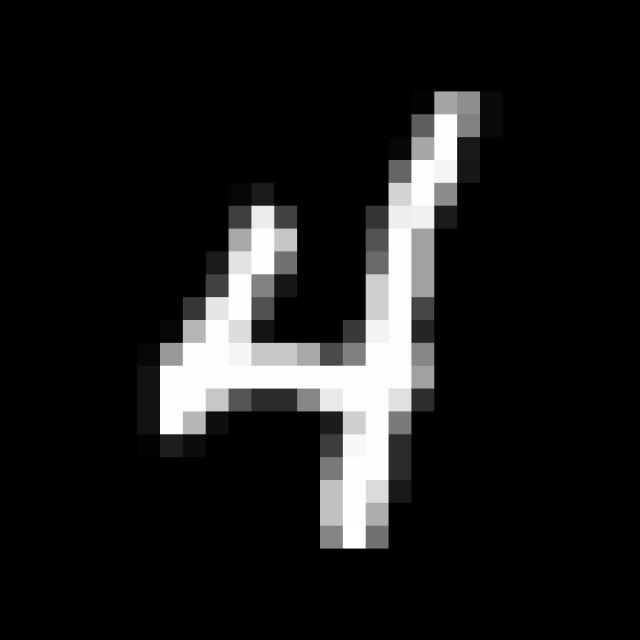four -4-: (132, 66, 500, 570)
